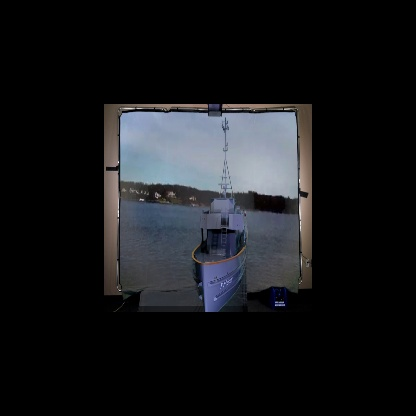YP689: (191, 117, 249, 312)
